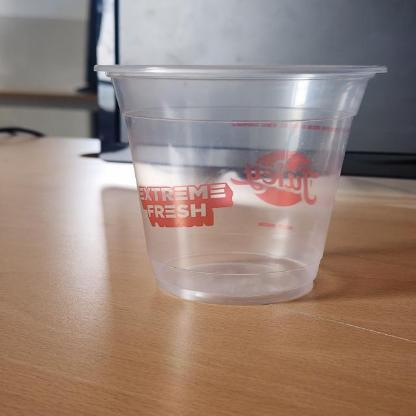Plastic Cup: (92, 63, 388, 307)
